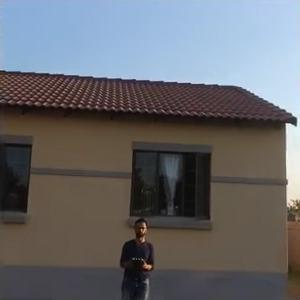follow: (117, 210, 156, 299)
